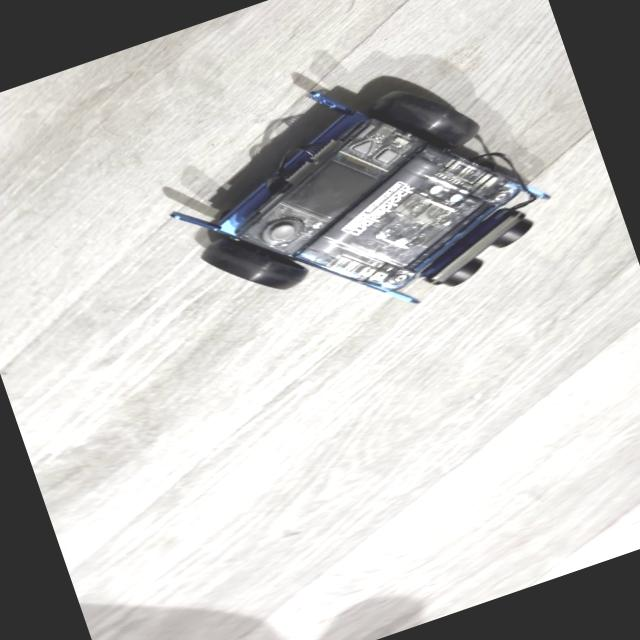mbot-detection: (118, 10, 589, 388)
